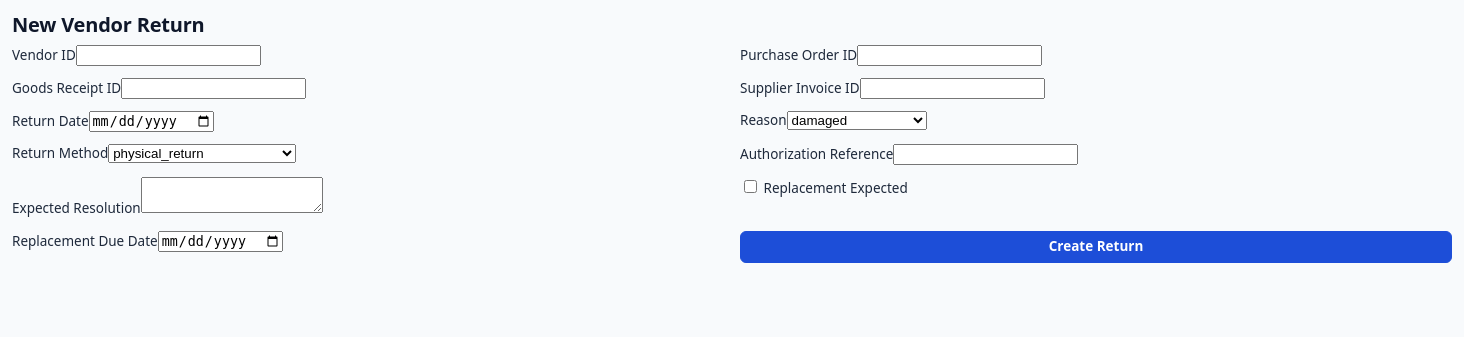
Scenario: P3 vendor return create › does not navigate when the returned id is missing
In the field labelled "Vendor ID": (168, 56) [76, 45, 261, 66], type "2"
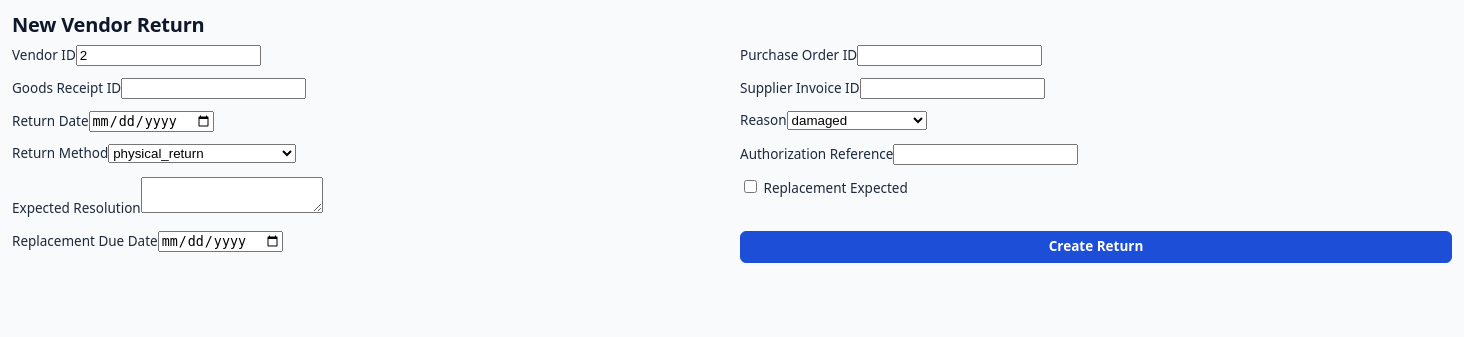
In the field labelled "Purchase Order ID": (950, 56) [857, 45, 1042, 66], type "5"
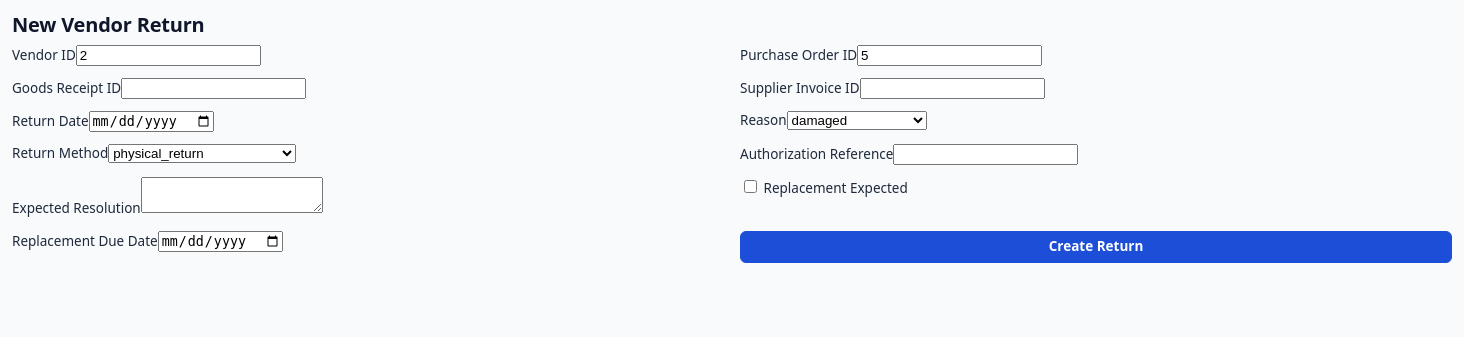
In the date field labelled "Return Date": (151, 122) [89, 111, 214, 132], type "2026-11-12"
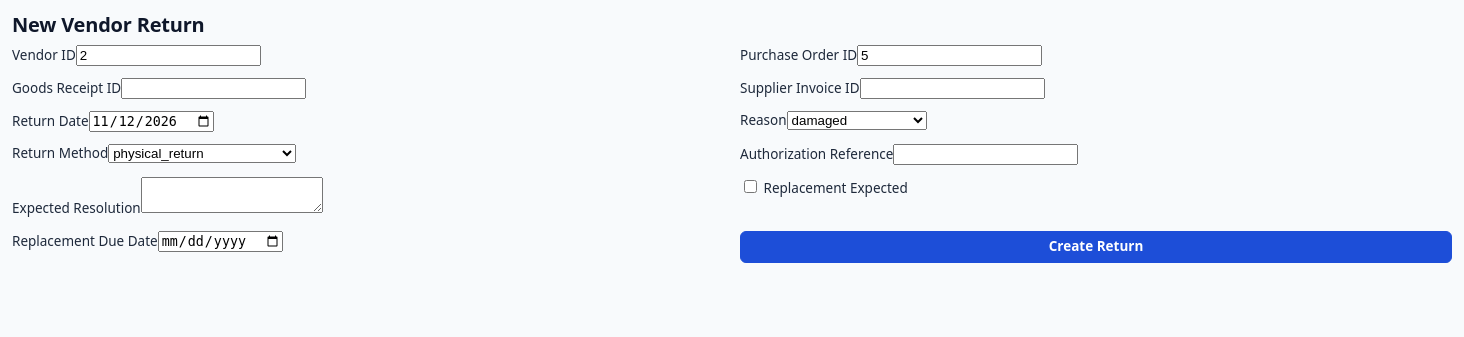
Click the button "Create Return": (1096, 247) [740, 231, 1452, 263]
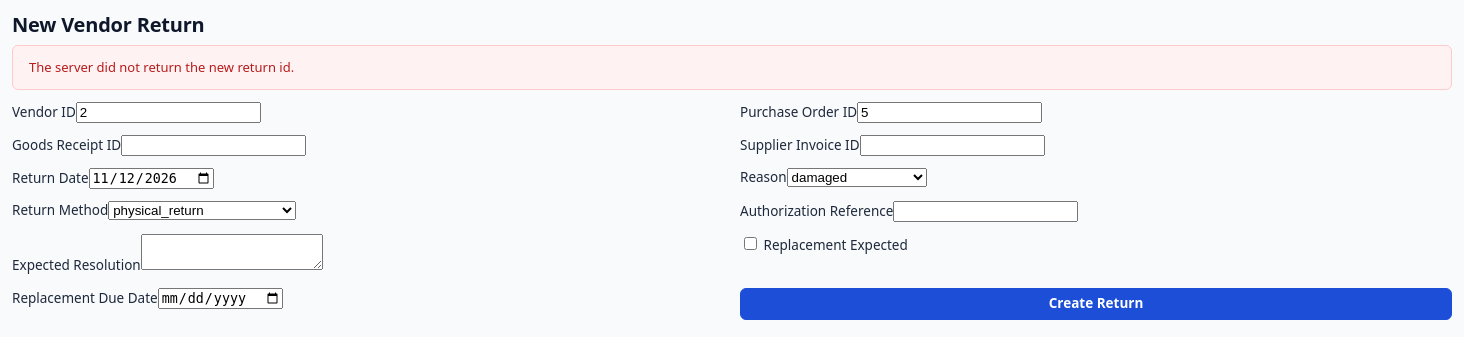
Now the message "The server did not return the new return id." is shown, box [12, 45, 1452, 90]
Now the message shows "did not return the new return id", box [29, 58, 294, 76]
